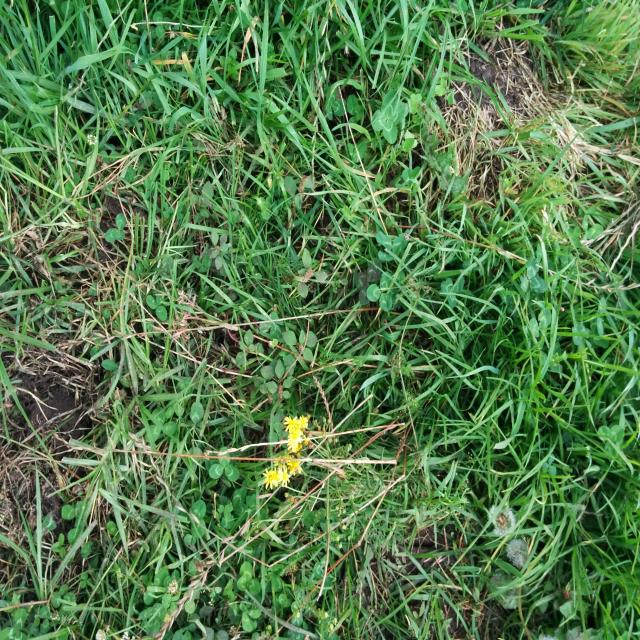Four Leaf Clover: (371, 89, 409, 144)
